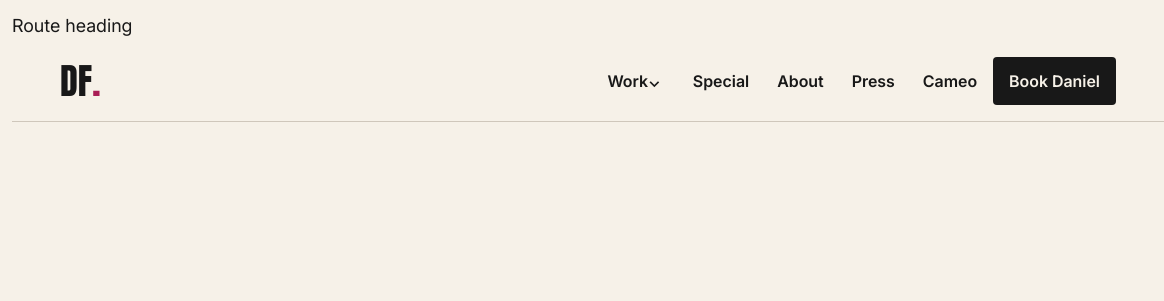
Scenario: shared shell navigation › opens and dismisses Work as a disclosure
The image size is (1164, 301).
Click the button "Work ⌄" at (634, 81), box [591,57,677,105]
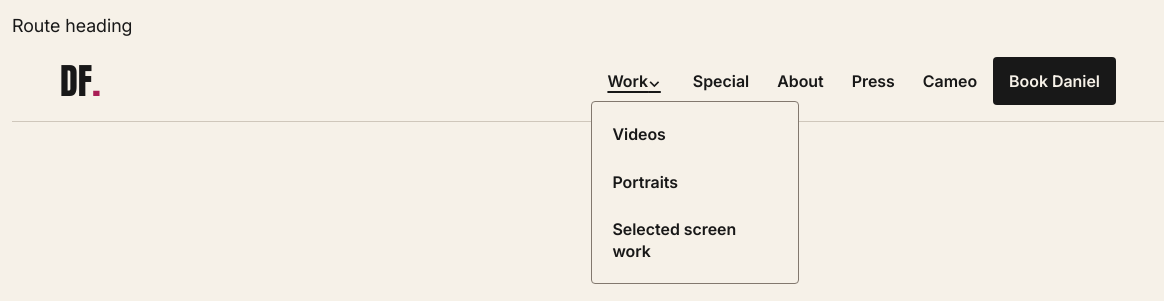
expect the button "Work ⌄" is expanded: met, box [591,57,677,105]
expect the link "Selected screen work" is shown: met, box [612,219,736,261]
Press Escape
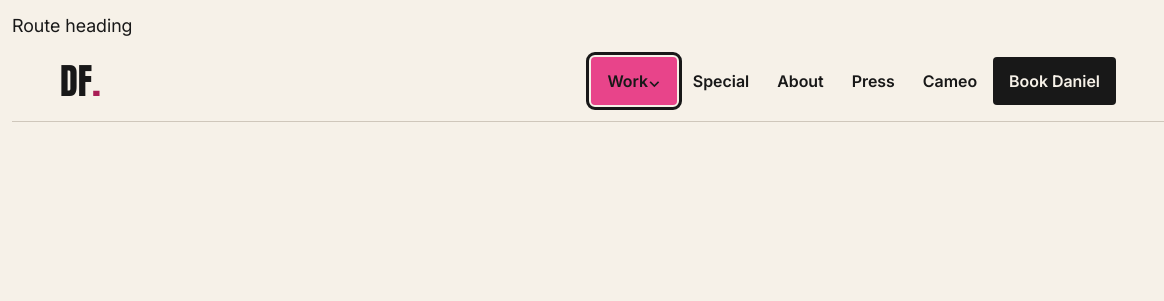
expect the button "Work ⌄" is collapsed: met, box [591,57,677,105]
